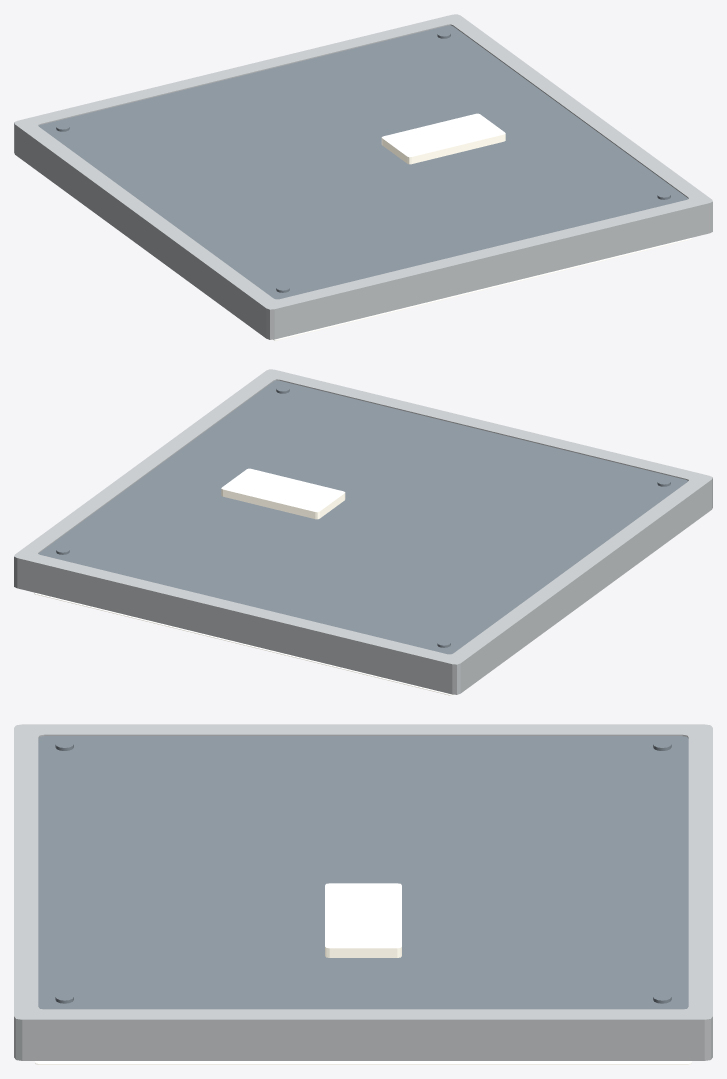
Rendered from source.glb.
3 views of the same model, one above another, from view 1: azimuth 30°, elevation 25°; view 2: azimuth 150°, elevation 25°; view 3: azimuth 270°, elevation 25° (orthographic). The views are drawn at different scales.
Visible parts, largest first — view 1: 机加工金属, 粉末涂层铝壳, Emitters; view 2: 机加工金属, 粉末涂层铝壳, Emitters; view 3: 机加工金属, 粉末涂层铝壳, Emitters.
Boxes of the visible parts, x1,y1,x2,y2 form: 机加工金属: [38, 25, 688, 299]; 粉末涂层铝壳: [14, 14, 712, 339]; Emitters: [273, 113, 692, 340]; 机加工金属: [38, 380, 688, 654]; 粉末涂层铝壳: [14, 369, 712, 694]; Emitters: [34, 468, 453, 695]; 机加工金属: [38, 736, 688, 1009]; 粉末涂层铝壳: [14, 724, 712, 1060]; Emitters: [35, 883, 691, 1064].
Bounding box in the file's own units: 0.3 × 0.0299 × 0.3.
